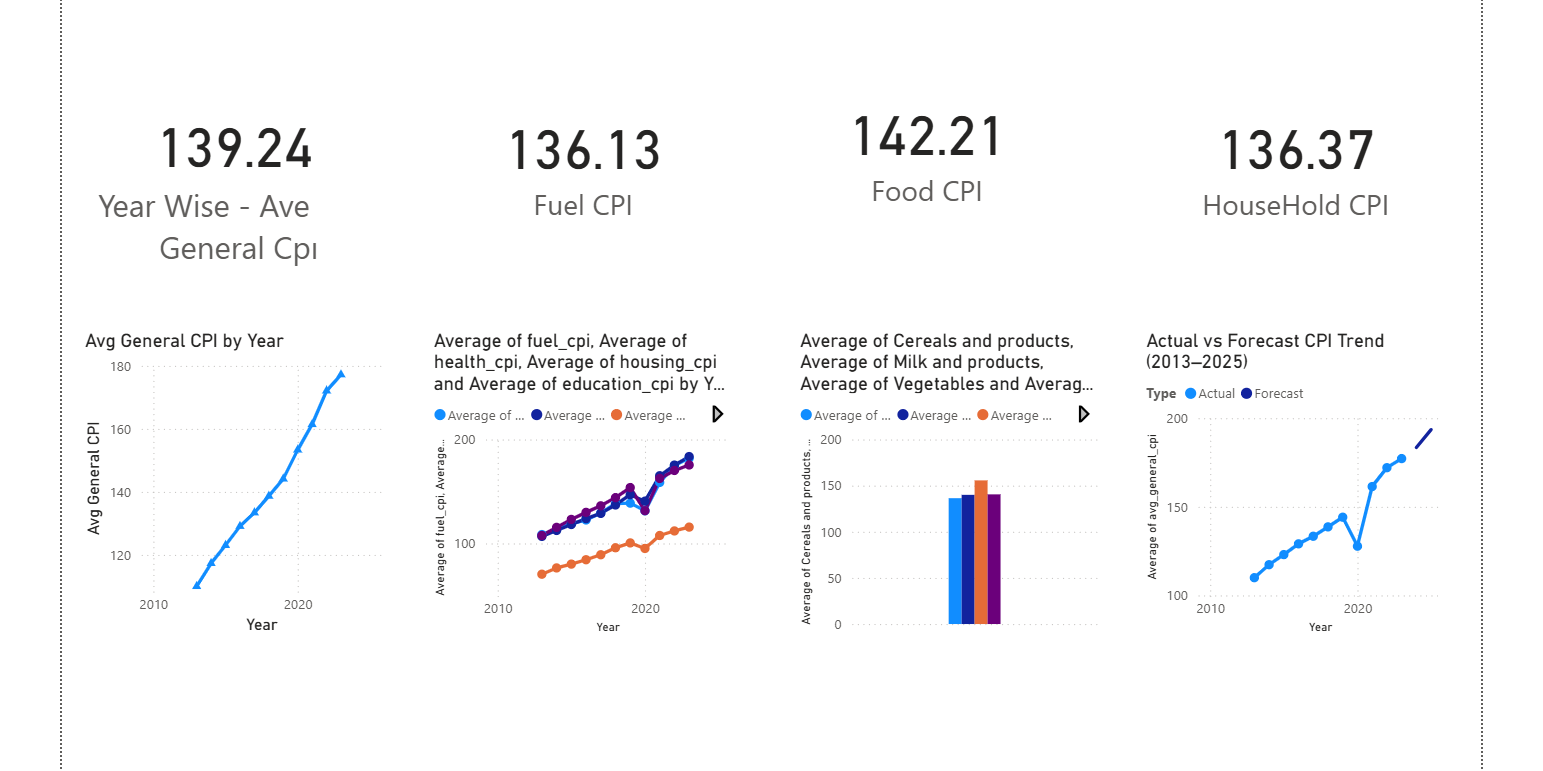

Layout of this report page (visuals, bound fields, positions):
{"tool":"powerbi","page":{"name":"Page 1","canvas":[1280,720],"ordinal":0},"visuals":[{"type":"card","fields":{"Values":["india_CPI.Food CPI"]},"box":[640,0,280,280],"z":0},{"type":"card","title":"ee","fields":{"Values":["india_CPI.Avg General CPI"]},"box":[15.7,12.9,280,280],"z":1000},{"type":"card","fields":{"Values":["india_CPI.Fuel CPI"]},"box":[330,12.9,280,280],"z":2000},{"type":"card","fields":{"Values":["india_CPI.HouseHold CPI"]},"box":[972.9,12.9,280,280],"z":3000},{"type":"lineChart","fields":{"Category":["year_Wise_cpi.Year"],"Y":["india_CPI.Avg General CPI"]},"box":[16,303,280,280],"z":4000},{"type":"lineChart","fields":{"Y":["Avg(sector_wise_cpi.fuel_cpi)","Avg(sector_wise_cpi.health_cpi)","Avg(sector_wise_cpi.housing_cpi)","Avg(sector_wise_cpi.education_cpi)"],"Category":["sector_wise_cpi.Year"]},"box":[330,303,280,280],"z":5000},{"type":"clusteredColumnChart","fields":{"Y":["Avg(india_CPI.Cereals and products)","Avg(india_CPI.Milk and products)","Avg(india_CPI.Vegetables)","Avg(india_CPI.Egg)"]},"box":[660,303,280,280],"z":6000},{"type":"lineChart","title":"Actual vs Forecast CPI Trend (2013–2025)","fields":{"Category":["cpi_forecast_2024,2025.Year "],"Y":["Avg(cpi_forecast_2024,2025.avg_general_cpi)"],"Series":["cpi_forecast_2024,2025.Type"]},"box":[973,303,280,280],"z":7000},{"type":"textbox","box":[224,100,176,122],"z":8000}]}

Visuals, with their boxes on the page's 1280x720 design canvas (x1, y1, x2, y2). These are canvas units, not pixel positions in the 1543x771 screenshot, which may show the page scaled, cropped or inside an application window:
card - india_CPI.Food CPI: 640/0/920/280
"ee" card: 16/13/296/293
card - india_CPI.Fuel CPI: 330/13/610/293
card - india_CPI.HouseHold CPI: 973/13/1253/293
lineChart - year_Wise_cpi.Year x india_CPI.Avg General CPI: 16/303/296/583
lineChart - Avg(sector_wise_cpi.fuel_cpi) x Avg(sector_wise_cpi.health_cpi): 330/303/610/583
clusteredColumnChart - Avg(india_CPI.Cereals and products) x Avg(india_CPI.Milk and products): 660/303/940/583
"Actual vs Forecast CPI Trend (2013–2025)" lineChart: 973/303/1253/583
textbox: 224/100/400/222
